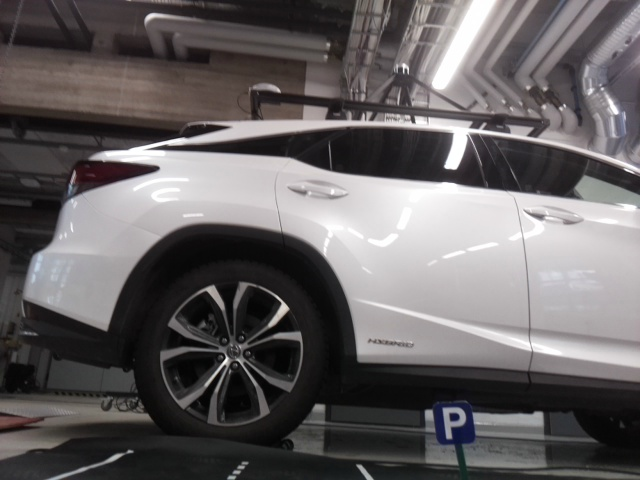Parking: (431, 402, 475, 442)
